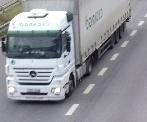Truck: (0, 1, 137, 102)
